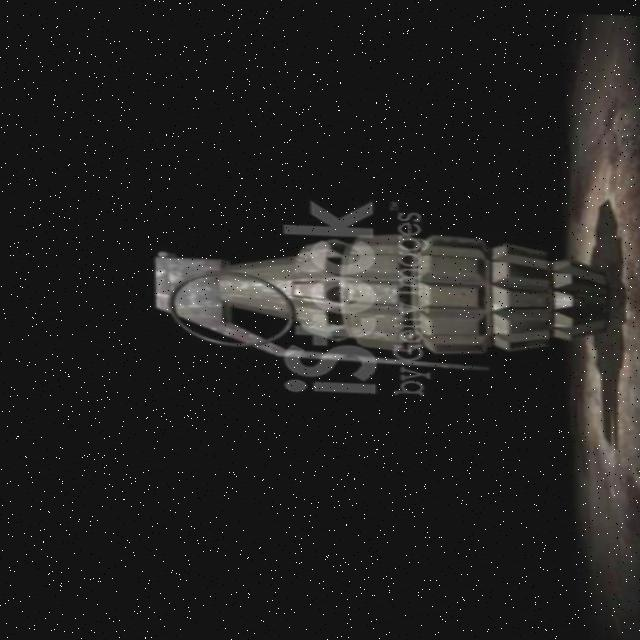grenade: (141, 223, 615, 375)
